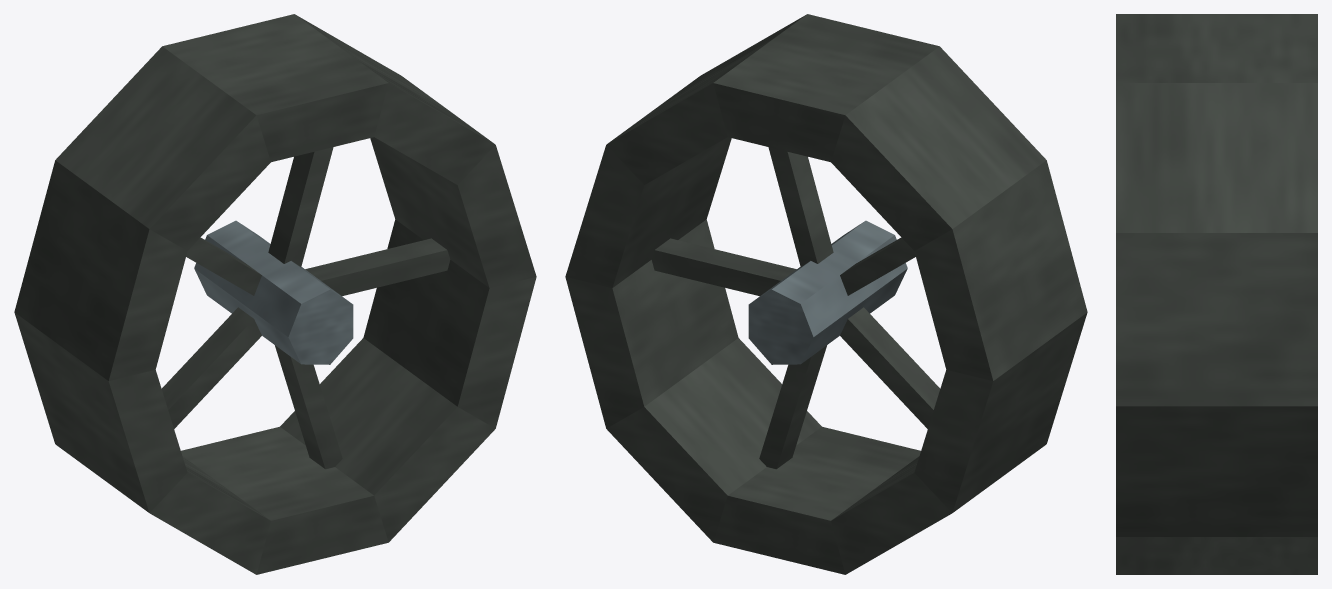
The model's file is tire_old.fbx.
3 renders of one model, left to right at view 1: azimuth 30°, elevation 25°; view 2: azimuth 150°, elevation 25°; view 3: azimuth 270°, elevation 25°, orthographic. The views are drawn at different scales.
Parts seen in each view (by area): view 1: tire_old; view 2: tire_old; view 3: tire_old.
Part boxes in pixels (box(x1,y1,x2,y2)): tire_old: box(14, 14, 536, 574); tire_old: box(565, 14, 1087, 574); tire_old: box(1116, 14, 1317, 574).
Bounding box in the file's own units: 76 × 78 × 29.
1 material, 1 textured.
